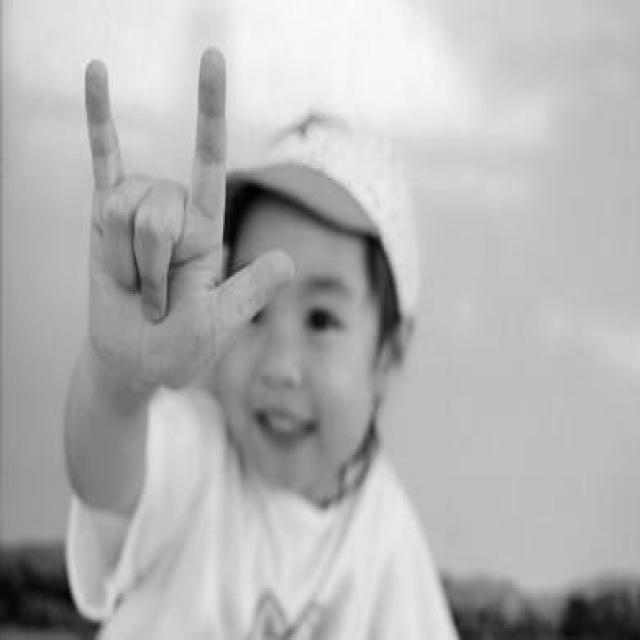i love you: (80, 39, 300, 398)
